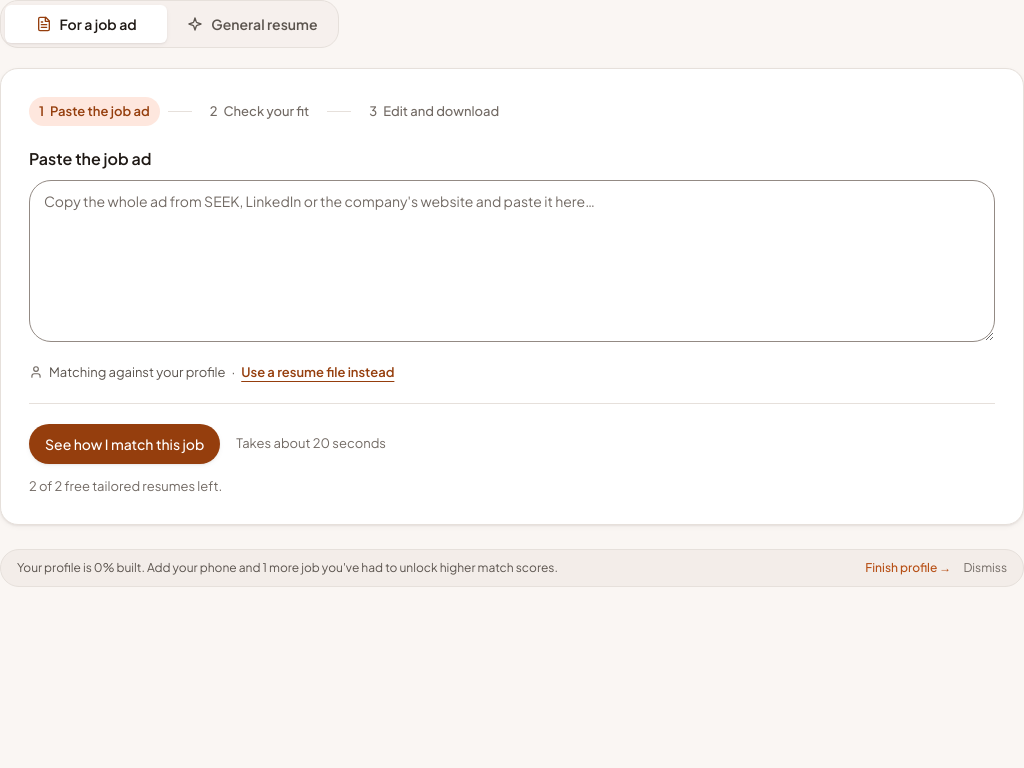
ResumeGate start-mode choice › switches to the general form and back again
Click the button "General resume" at (252, 24), box [171,5,334,43]
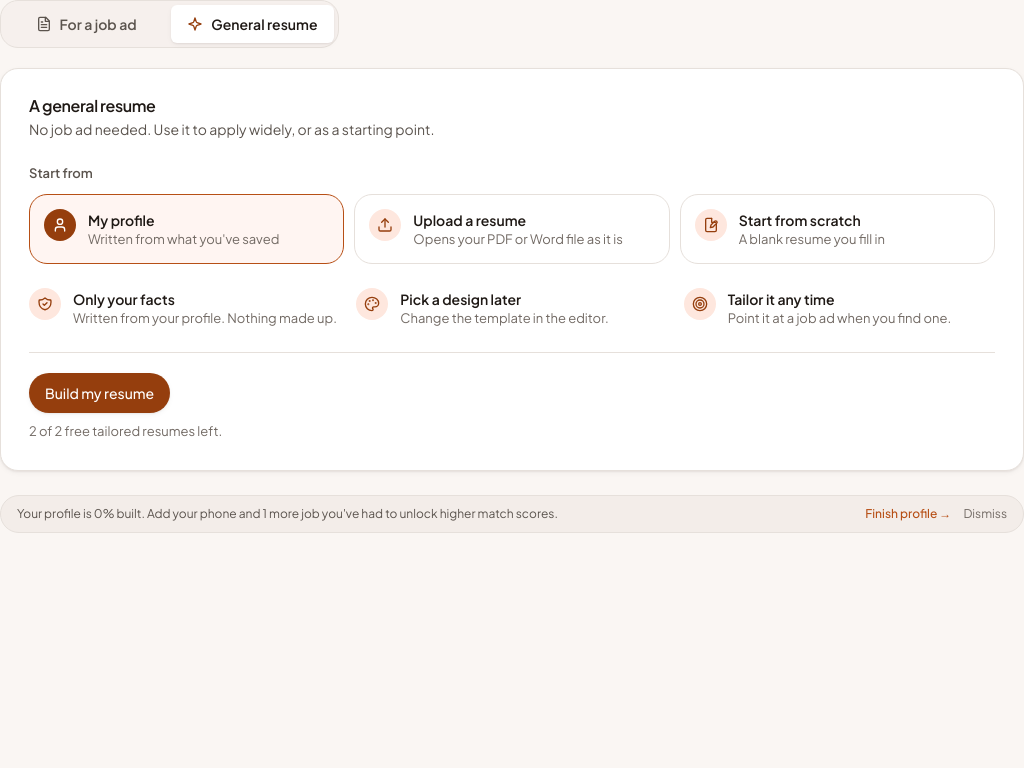
Expected: the button "Build my resume" is shown, [29,373,170,413]
Click the button "For a job ad" at (86, 24), box [5,5,167,43]
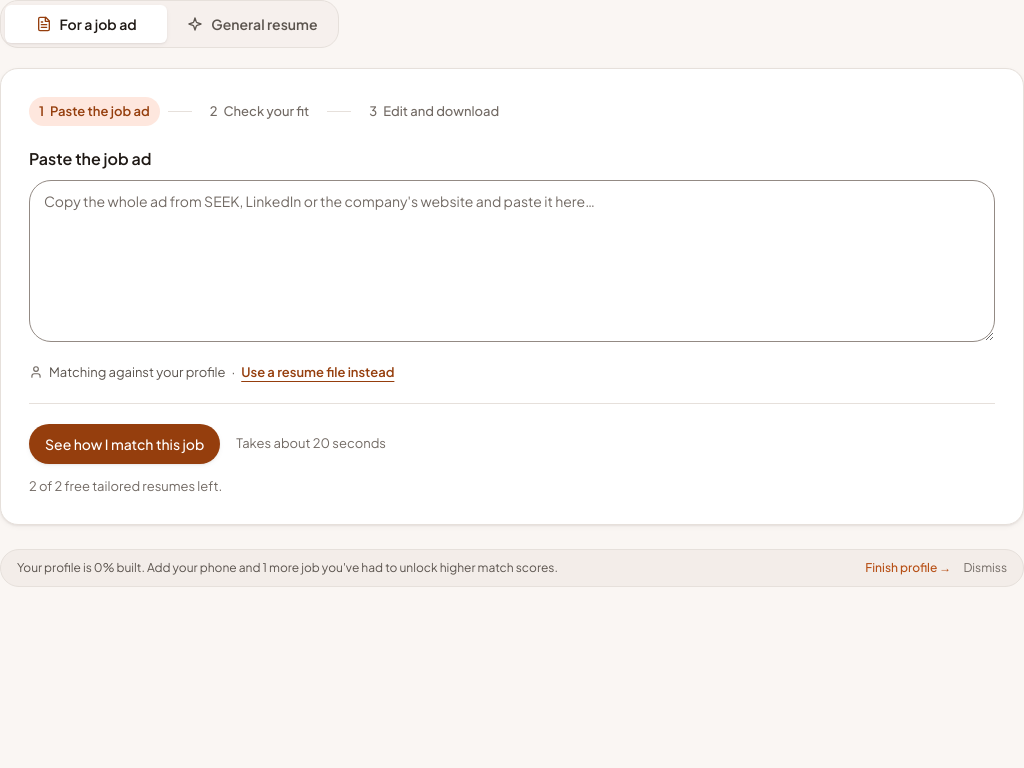
Expected: the text box labelled "Paste the job ad" is shown, [29,180,995,342]
